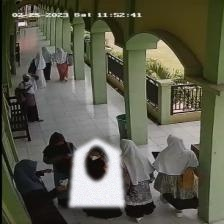Mukena: (69, 137, 125, 207)
